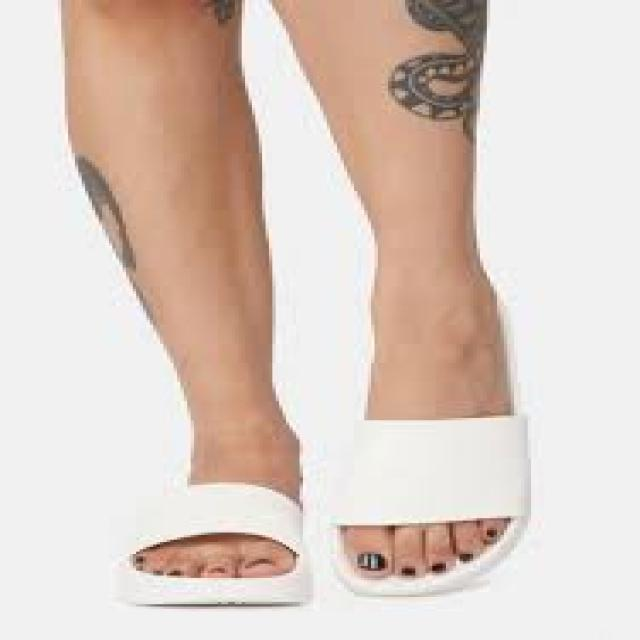Sandals: (339, 278, 534, 598), (121, 366, 309, 610)
